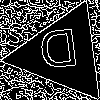D: (37, 28, 82, 79)
